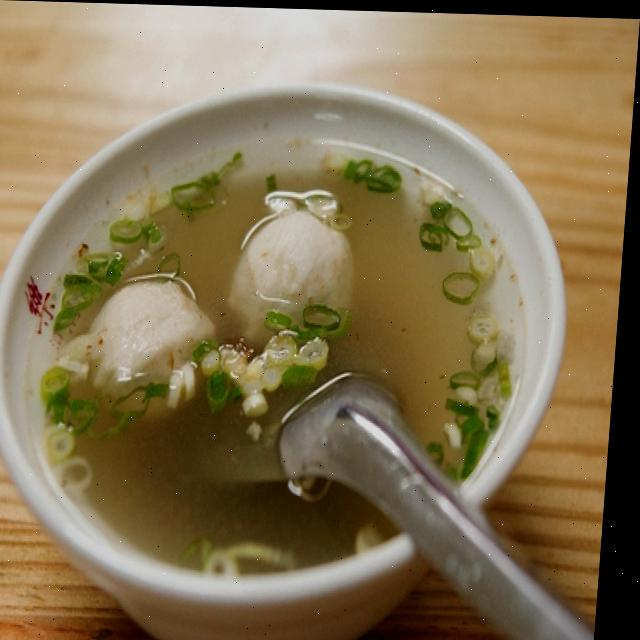熟制海鲜: (0, 50, 583, 640)
